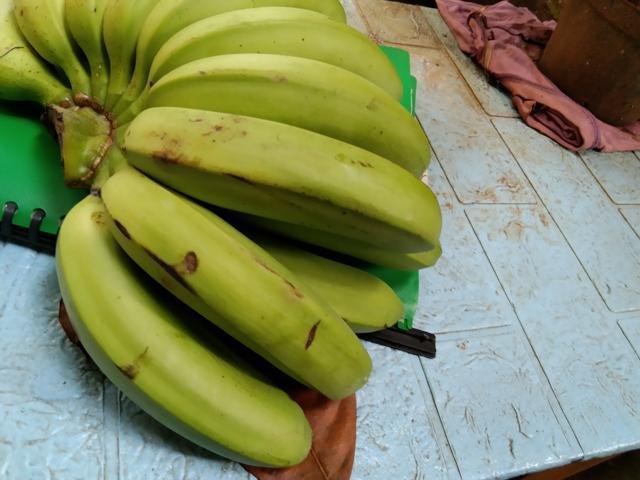freshunripe: (166, 45, 431, 159), (136, 0, 421, 81)
unripe: (48, 192, 320, 473), (99, 164, 373, 399), (115, 98, 442, 258)
